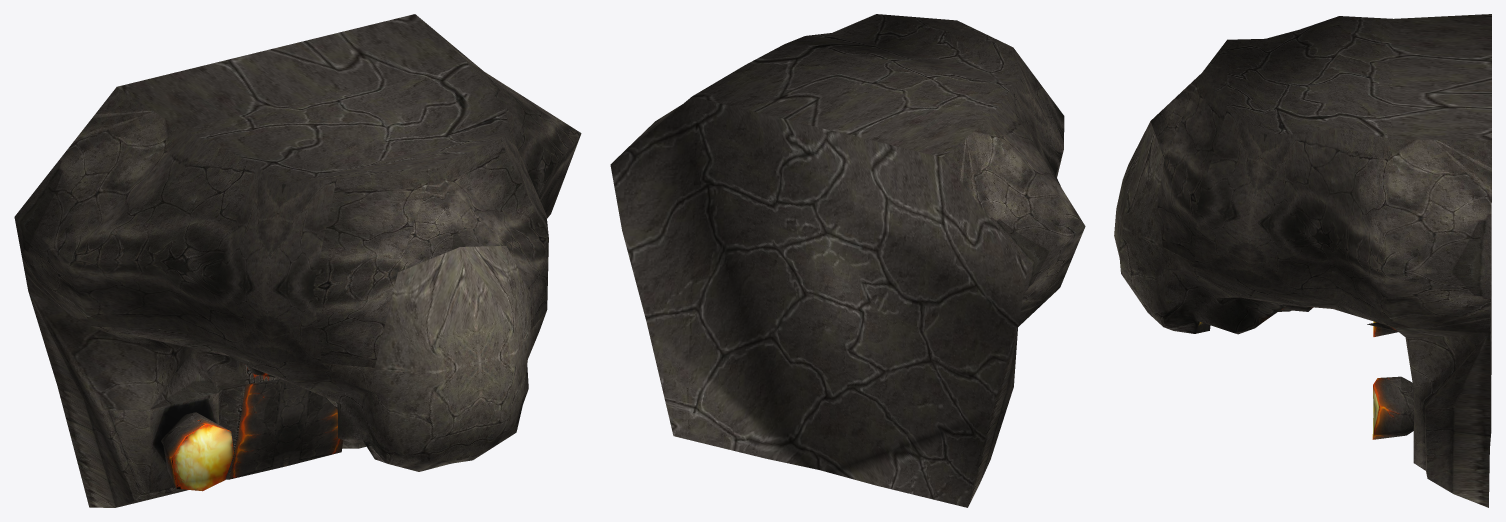
File: Altar-gate-03.obj
The picture shows the model from 3 angles, left to right: view 1: azimuth 30°, elevation 25°; view 2: azimuth 150°, elevation 25°; view 3: azimuth 270°, elevation 25°; orthographic projection. The views are drawn at different scales.
Visible parts, largest first — view 1: (null); view 2: (null); view 3: (null).
Boxes of the visible parts, x1,y1,x2,y2 form: (null): (14,14,581,507); (null): (610,14,1085,507); (null): (1114,14,1491,507).
Bounding box in the file's own units: 12.4 × 9.63 × 9.11.
